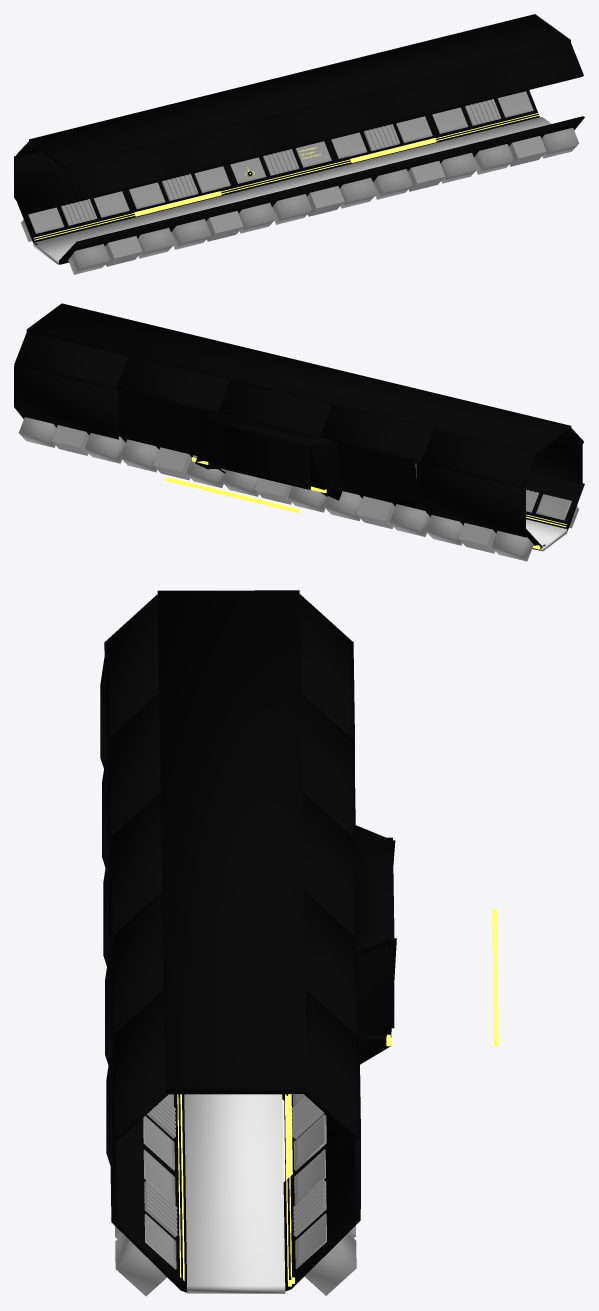
File: Portfolio 2.0 English.glb
3 views of the same model, one above another, from view 1: azimuth 30°, elevation 25°; view 2: azimuth 150°, elevation 25°; view 3: azimuth 270°, elevation 25° (orthographic). The views are drawn at different scales.
Parts seen in each view (by area): view 1: Cube.016, Cube, Cube.001, Cube.050, Cube.061, Cube.053, Cube.015, Cube.038, Cube.030, Cube.002, Cube.056, Cube.021 (+15 smaller); view 2: Cube.016, Cube.018, Cube.009, Cube.050, Cube.041, Cube.061, Cube.053, Cube.038, Cube.030, Cube.015, Cube.060, Cube.001 (+17 smaller); view 3: Cube.016, Cube, Cube.053, Cube.061, Cube.030, Cube.038, Cube.015, Cube.001, Cube.041, Cube.043, Cube.009, Cube.018 (+5 smaller).
Part boxes in pixels (<box>): Cube.016: <box>29,14,570,168</box>; Cube: <box>33,117,551,264</box>; Cube.001: <box>59,116,584,264</box>; Cube.050: <box>14,152,135,242</box>; Cube.061: <box>16,141,179,201</box>; Cube.053: <box>469,42,583,101</box>; Cube.015: <box>268,92,381,151</box>; Cube.038: <box>369,67,482,126</box>; Cube.030: <box>166,117,280,176</box>; Cube.002: <box>211,136,352,195</box>; Cube.056: <box>21,207,109,274</box>; Cube.021: <box>129,182,210,249</box>; Cube.016: <box>26,303,571,455</box>; Cube.018: <box>118,391,427,513</box>; Cube.009: <box>196,409,332,492</box>; Cube.050: <box>420,463,542,550</box>; Cube.041: <box>14,365,126,442</box>; Cube.061: <box>421,428,583,487</box>; Cube.053: <box>14,331,128,389</box>; Cube.038: <box>116,356,229,412</box>; Cube.030: <box>320,405,433,463</box>; Cube.015: <box>218,380,331,436</box>; Cube.060: <box>530,439,582,484</box>; Cube.001: <box>123,392,584,530</box>; Cube.016: <box>157,590,307,1094</box>; Cube: <box>184,1094,285,1293</box>; Cube.053: <box>110,990,360,1141</box>; Cube.061: <box>104,594,354,740</box>; Cube.030: <box>106,693,355,839</box>; Cube.038: <box>109,891,358,1037</box>; Cube.015: <box>107,792,355,938</box>; Cube.001: <box>110,1094,186,1292</box>; Cube.041: <box>283,1037,360,1291</box>; Cube.043: <box>115,1213,356,1296</box>; Cube.009: <box>353,824,394,1041</box>; Cube.018: <box>284,840,396,1180</box>.
Size of the model in its own units: 308 by 61.83 by 104.
